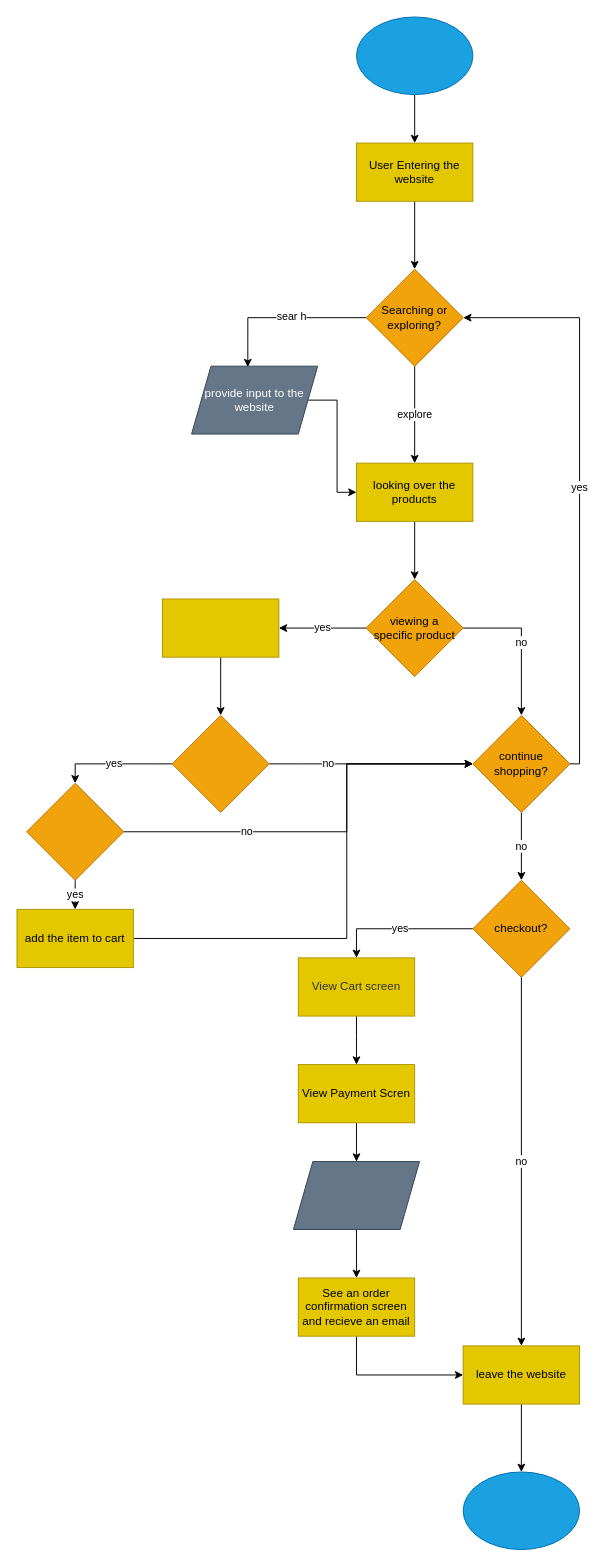
Some shapes in this 604 by 1567 pixel diagram are drawn without their labels. Here are the shapes that lost their labels. From the top down, the box of each, then its label:
(356, 16, 473, 95): Start
(162, 598, 279, 657): product’s webpage will open
(171, 714, 269, 812): add it to the cart?
(26, 782, 124, 880): confirm adding to cart?
(292, 1161, 420, 1229): Provide payment information
(462, 1471, 580, 1550): end
